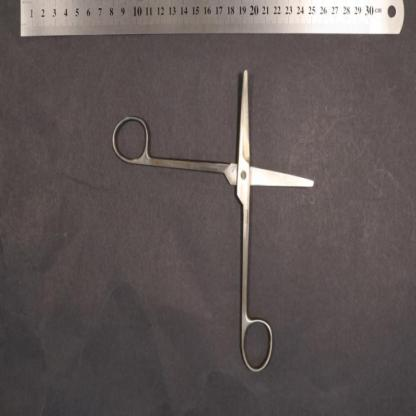Curved Mayo Scissors: (112, 70, 314, 375)
